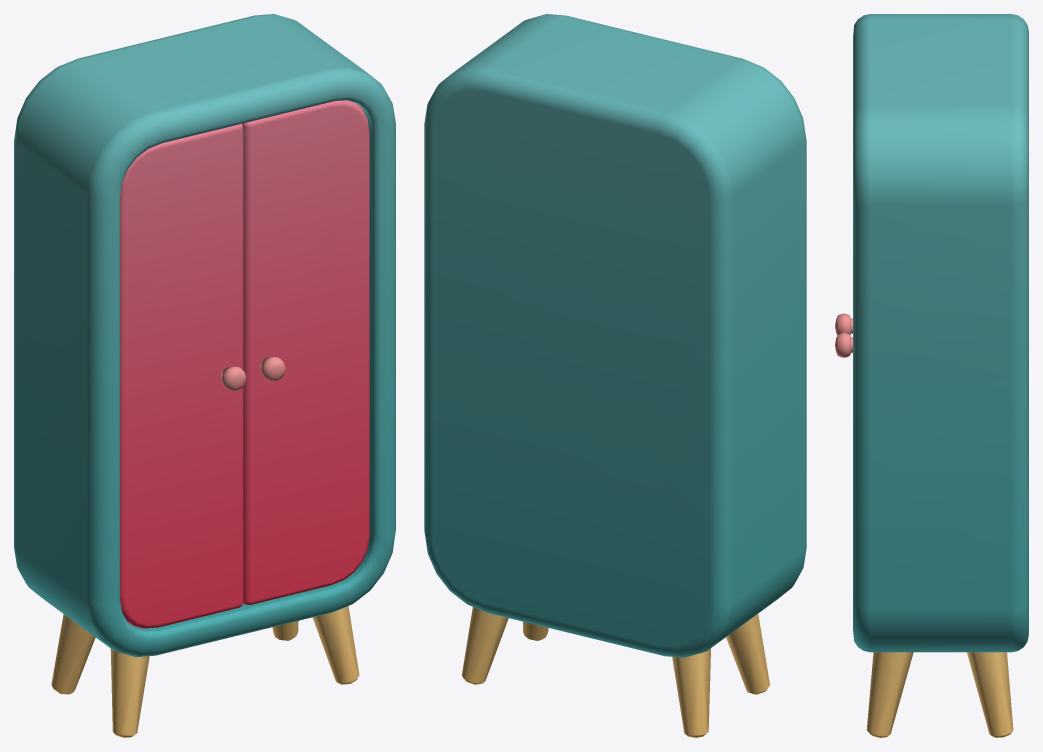
Rendered from Mueble_Grande.fbx.
The picture shows the model from 3 angles, left to right: view 1: azimuth 30°, elevation 25°; view 2: azimuth 150°, elevation 25°; view 3: azimuth 270°, elevation 25°; orthographic projection.
Visible parts, largest first — view 1: Closet_02; view 2: Closet_02; view 3: Closet_02.
Part boxes in pixels (<box>): Closet_02: <box>14,14,395,737</box>; Closet_02: <box>424,14,806,737</box>; Closet_02: <box>835,14,1028,737</box>.
Bounding box in the file's own units: 80 × 155 × 44.05.
1 material, 1 textured.
